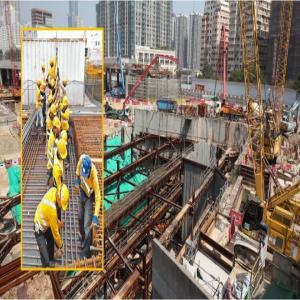blue: (82, 156, 93, 179)
yellow: (58, 183, 70, 212), (58, 139, 68, 162), (54, 118, 61, 134), (51, 105, 57, 119), (49, 96, 55, 108), (64, 97, 69, 110), (52, 80, 57, 90), (63, 79, 68, 89), (50, 60, 55, 69), (38, 80, 42, 90), (42, 65, 46, 75)
